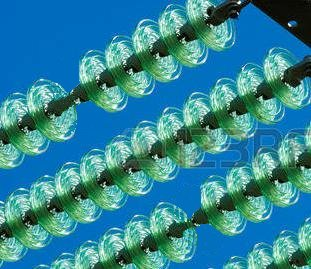gap: (27, 48, 130, 141), (148, 173, 247, 263)
